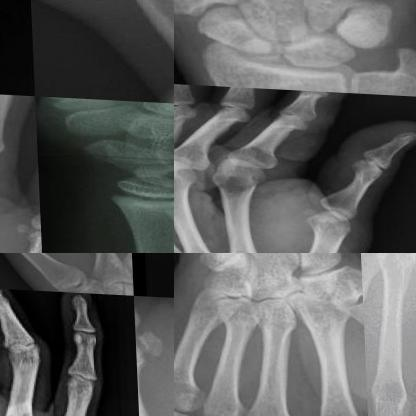fracture: (122, 231, 173, 252), (342, 293, 361, 336)
